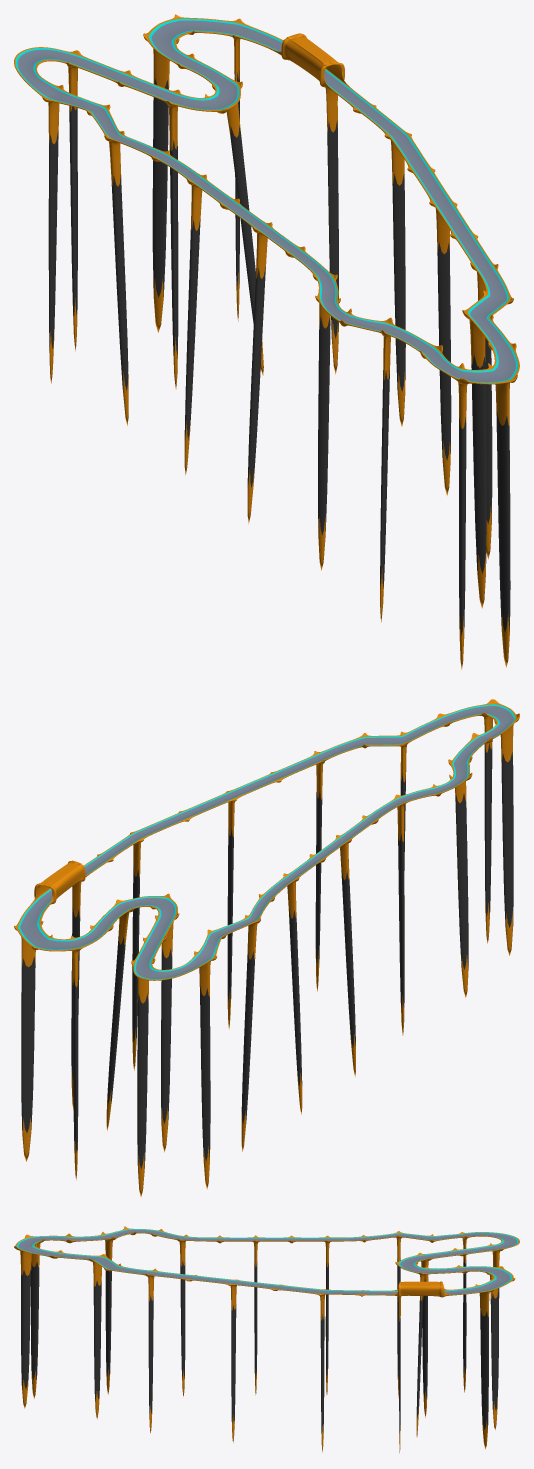
Rendered from Track_v2.fbx.
The picture shows the model from 3 angles, top to bottom: view 1: azimuth 30°, elevation 25°; view 2: azimuth 150°, elevation 25°; view 3: azimuth 270°, elevation 25°; orthographic projection. The views are drawn at different scales.
Parts seen in each view (by area): view 1: Track1; view 2: Track1; view 3: Track1.
Boxes of the visible parts, <box> form: Track1: <box>14,14,519,669</box>; Track1: <box>14,699,519,1196</box>; Track1: <box>14,1226,519,1453</box>.
Bounding box in the file's own units: 44.41 × 51.97 × 140.
